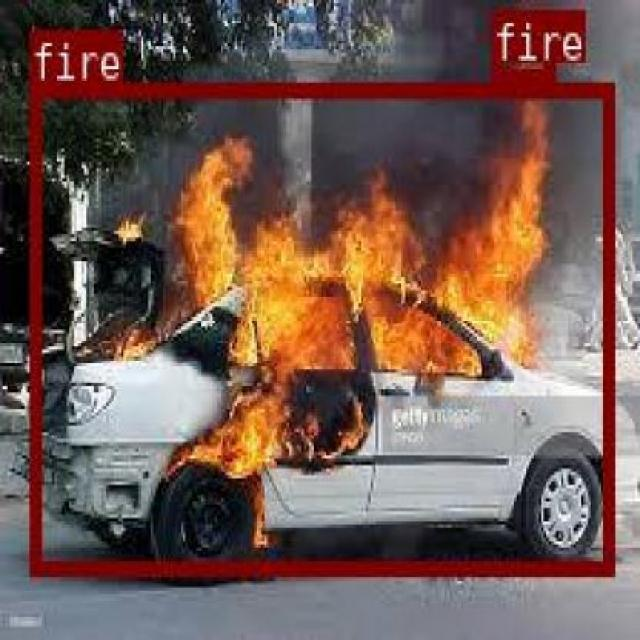Fire: (29, 79, 612, 573), (490, 8, 552, 82)
